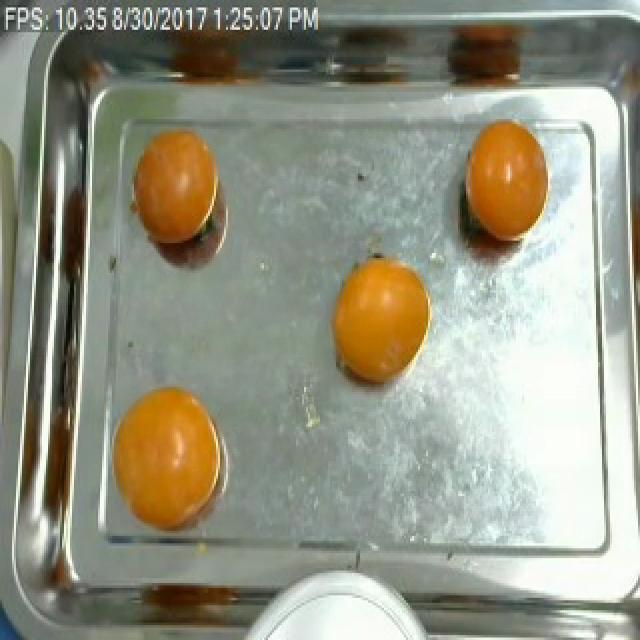Fruit: (94, 372, 238, 551), (322, 245, 438, 397), (120, 109, 230, 256), (450, 112, 554, 256), (434, 5, 542, 112)
